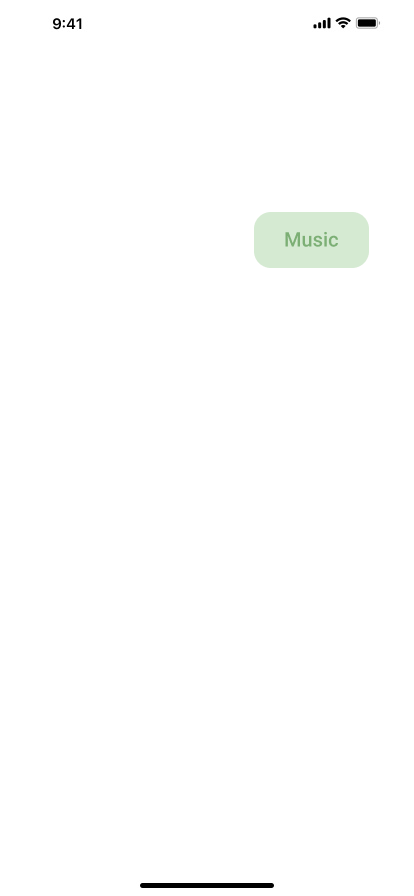Buttons: (254, 212, 377, 268)
Home Indicator: (0, 862, 414, 896)
Status Bar: (0, 0, 414, 44)
